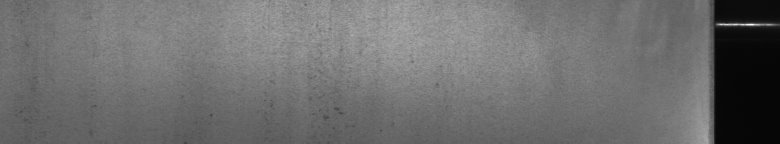ib: (210, 25, 344, 128)
